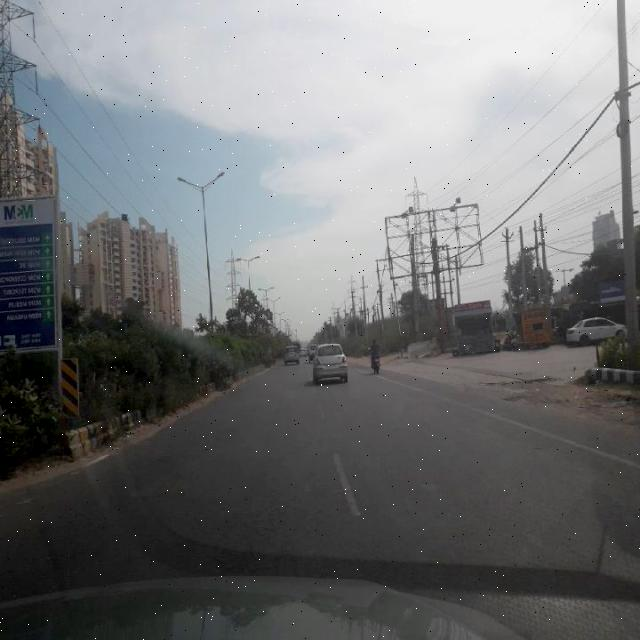D20: (8, 412, 600, 590)
